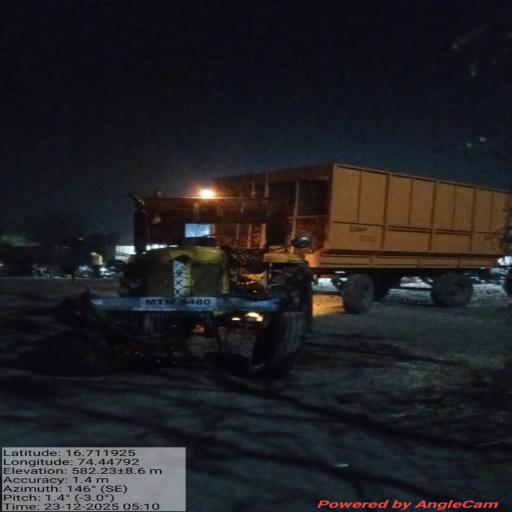number_plate: (142, 296, 232, 316)
